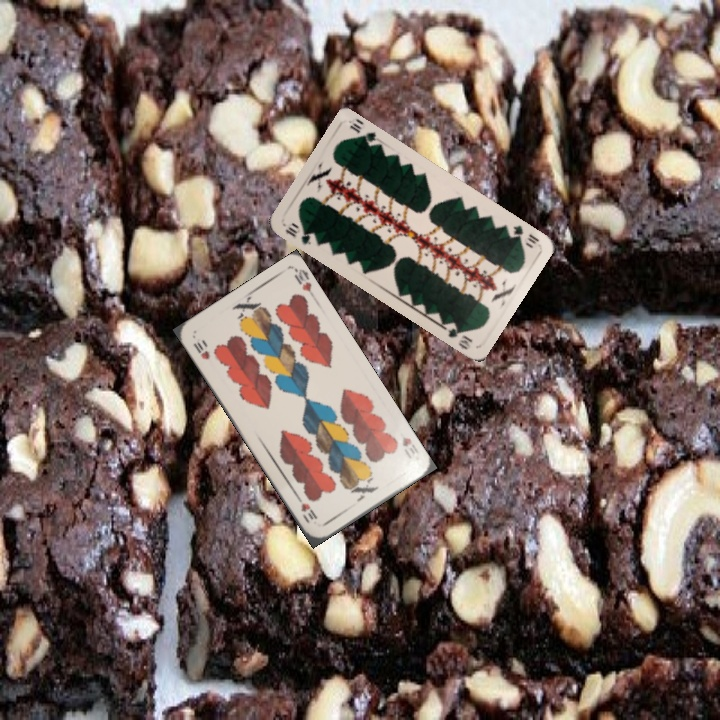G10: (281, 218, 314, 247), (509, 221, 542, 246)
H10: (189, 334, 212, 362), (398, 433, 421, 459)
